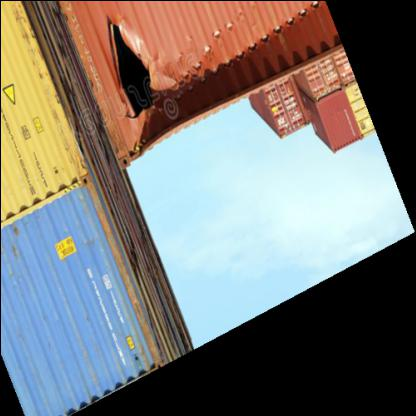Damage: (98, 13, 178, 131)
